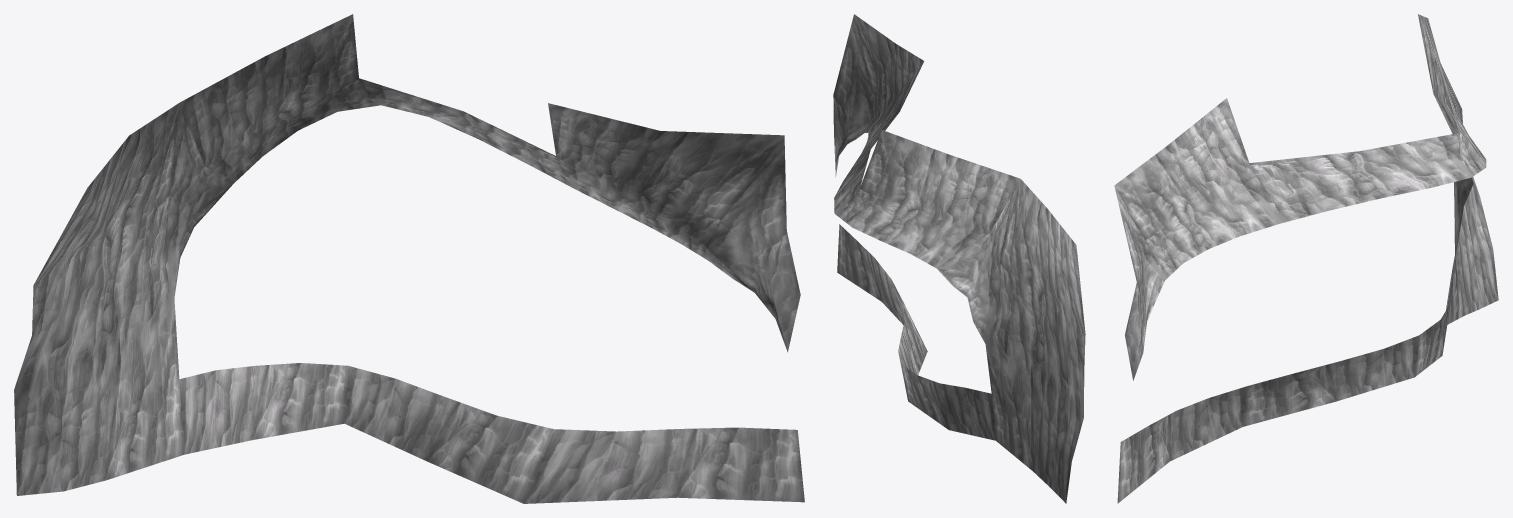
Rendered from SWORDLIGHT20_PS-AREA03_193.fbx.
3 renders of one model, left to right at view 1: azimuth 30°, elevation 25°; view 2: azimuth 150°, elevation 25°; view 3: azimuth 270°, elevation 25°, orthographic. The views are drawn at different scales.
Visible parts, largest first — view 1: SWORDLIGHT20_PS-AREA03_193; view 2: SWORDLIGHT20_PS-AREA03_193; view 3: SWORDLIGHT20_PS-AREA03_193.
Part boxes in pixels (bbox=[...]): SWORDLIGHT20_PS-AREA03_193: bbox=[14, 14, 804, 503]; SWORDLIGHT20_PS-AREA03_193: bbox=[833, 14, 1085, 503]; SWORDLIGHT20_PS-AREA03_193: bbox=[1114, 14, 1498, 503].
Bounding box in the file's own units: 184045 × 133849 × 129376.
Materials: 2 (2 with a texture image).
